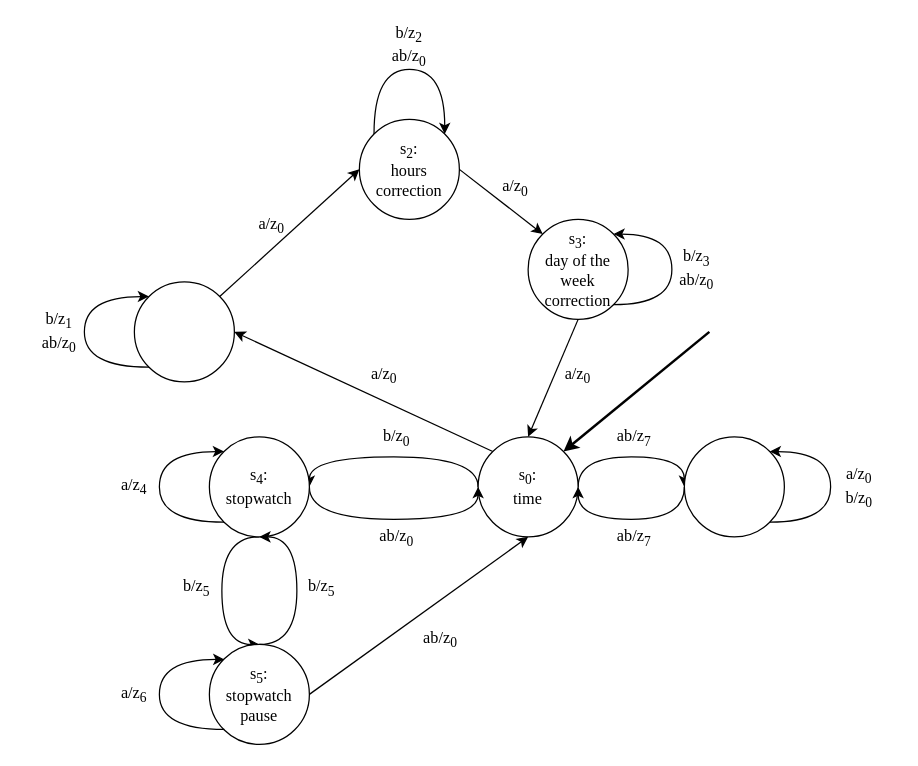
This 918x766 diagram has some shape labels left out. The shapes that lost their labels are listed below. From the top down, each one's box as (x1, y1, x2, y2) in pixels, then its label:
(133, 281, 234, 382): s 1 : minutes correction
(683, 436, 784, 537): s 6 : time stop
